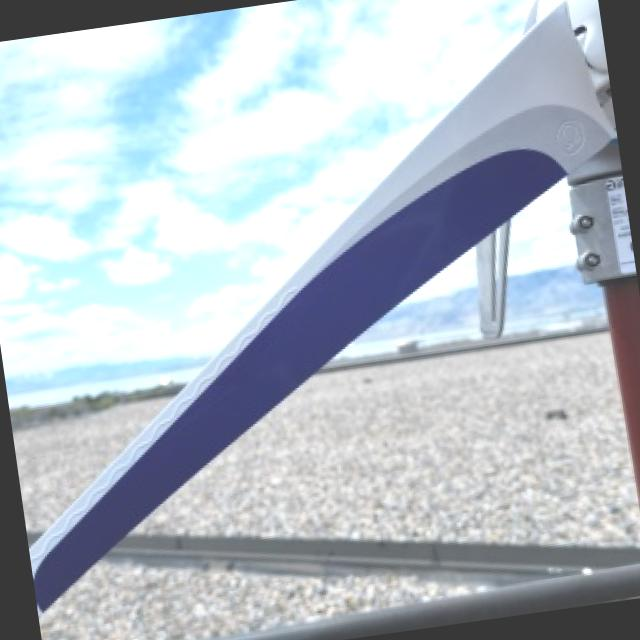healthy: (29, 14, 605, 599)
